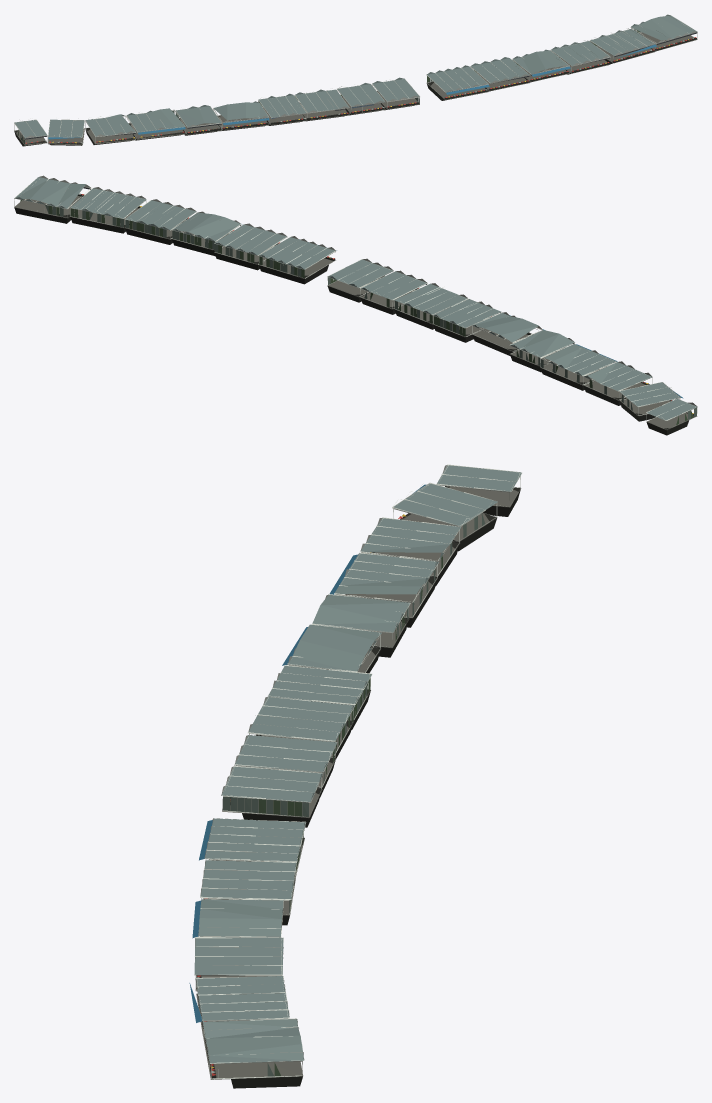
The model's file is bloemenmarkt-stalls.lod1.glb.
3 views of the same model, one above another, from view 1: azimuth 30°, elevation 25°; view 2: azimuth 150°, elevation 25°; view 3: azimuth 270°, elevation 25° (orthographic). The views are drawn at different scales.
Visible parts, largest first — view 1: bloemenmarkt-stalls; view 2: bloemenmarkt-stalls; view 3: bloemenmarkt-stalls.
Boxes of the visible parts, x1,y1,x2,y2 form: bloemenmarkt-stalls: (14,14,697,146); bloemenmarkt-stalls: (14,175,697,435); bloemenmarkt-stalls: (189,464,522,1088).
Bounding box in the file's own units: 228 × 5.51 × 53.57.
